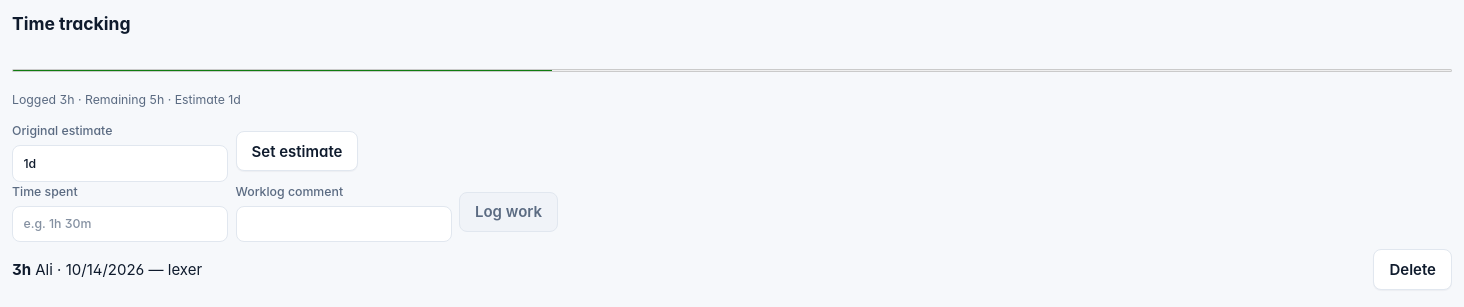
Test: IssueTimeTracking › sets the estimate, logs work and deletes a worklog
Expected: the text "Logged 3h · Remaining 5h · Estimate 1d" is shown, [12,92,241,107]
Expected: the text "3h Ali · 10/14/2026 — lexer" is shown, [12,258,202,281]
Replace the text in the field labelled "Original estimate" with "2d" at {"x": 120, "y": 164}, box [12,146,228,182]
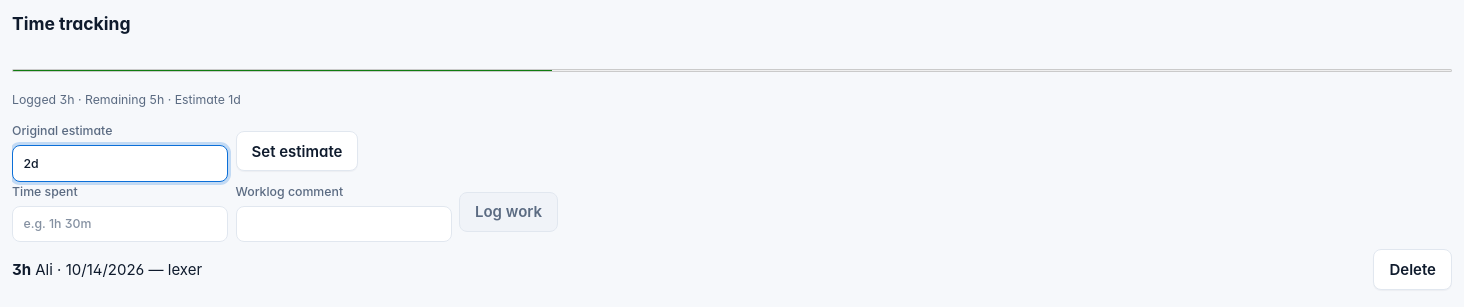
Click the button "Set estimate" at {"x": 297, "y": 151}, box [236,131,358,172]
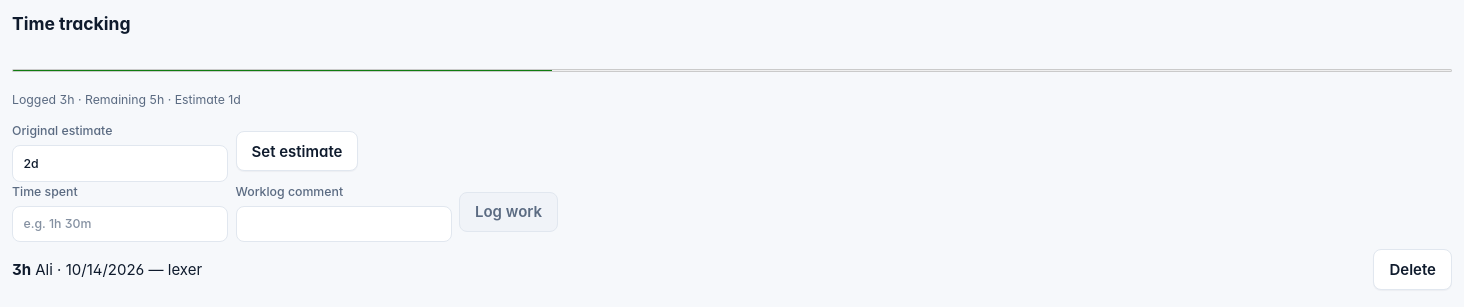
Type "1h 30m" into the field labelled "Time spent" at {"x": 120, "y": 224}, box [12,206,228,242]
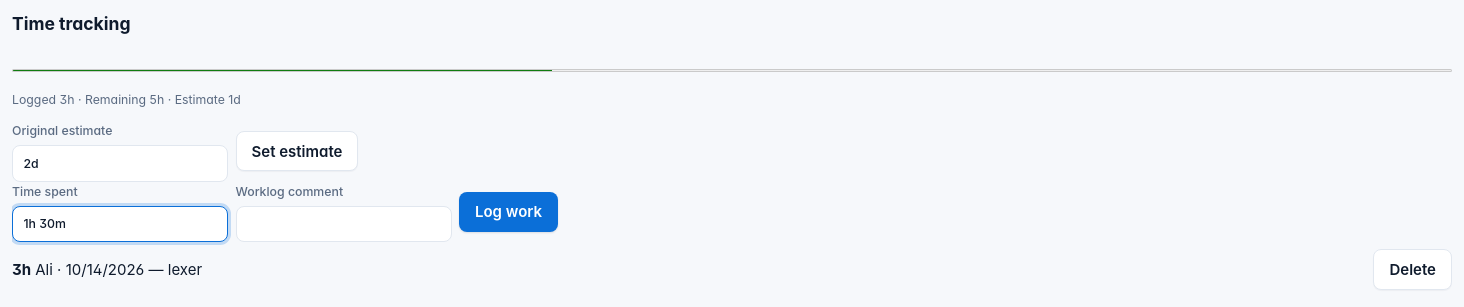
Type "tests" into the field labelled "Worklog comment" at {"x": 344, "y": 224}, box [236,206,452,242]
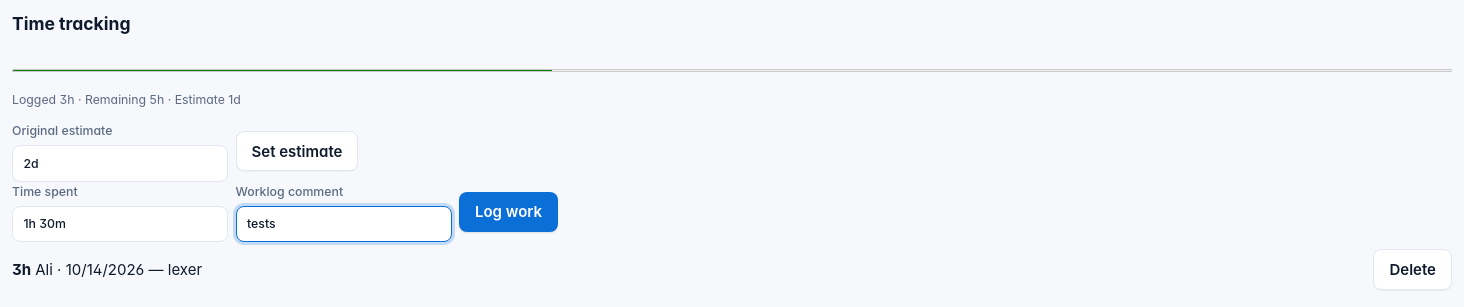
Click the button "Log work" at {"x": 508, "y": 212}, box [459,192,558,232]
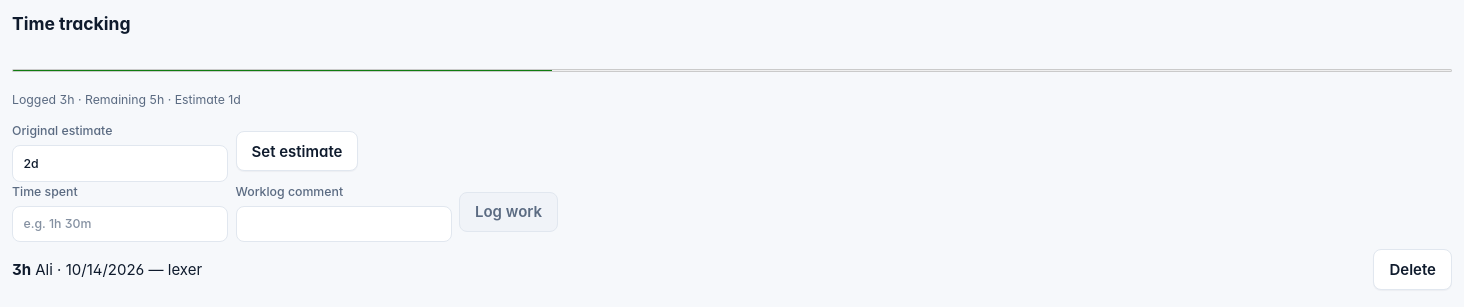
Click the button with aria-label "Delete worklog 3h by Ali" at {"x": 1413, "y": 270}, box [1374,249,1452,290]
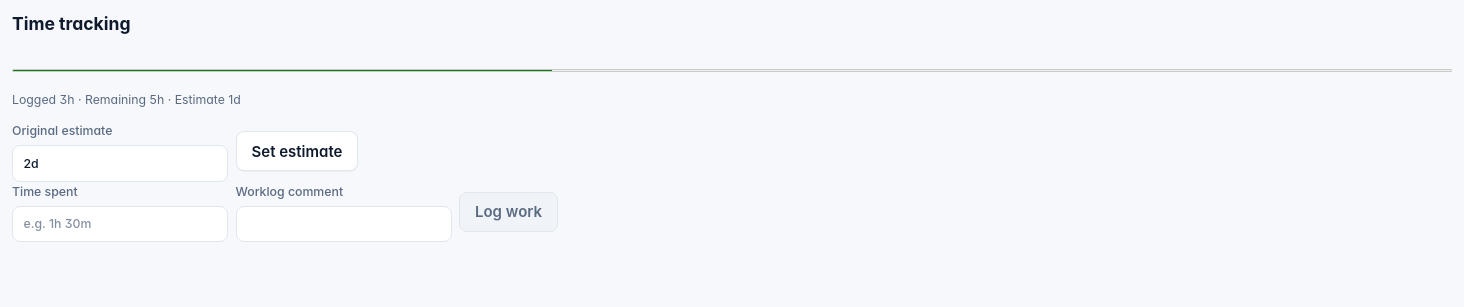
Expected: the text "lexer" is gone
